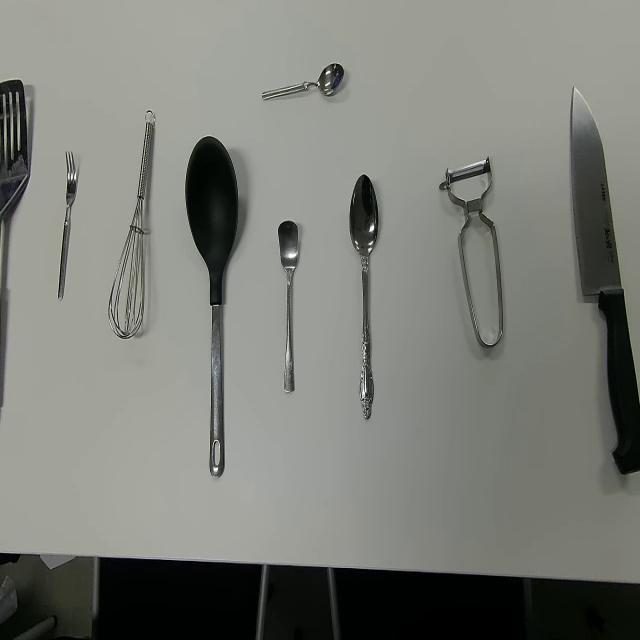Desert-Spoon: (349, 173, 379, 422)
Dinner-Fork: (56, 149, 76, 302)
Kitchen-Knife: (569, 84, 640, 478)
Peeler: (438, 154, 504, 350)
Serving-Spoon: (184, 134, 239, 481), (0, 76, 29, 418)
Tea-Spoon: (277, 218, 299, 393), (261, 61, 345, 102)
Whisk: (107, 108, 156, 340)
